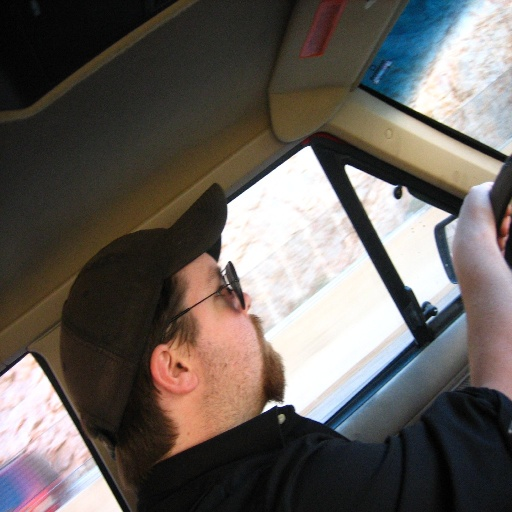hand: (445, 159, 510, 335)
